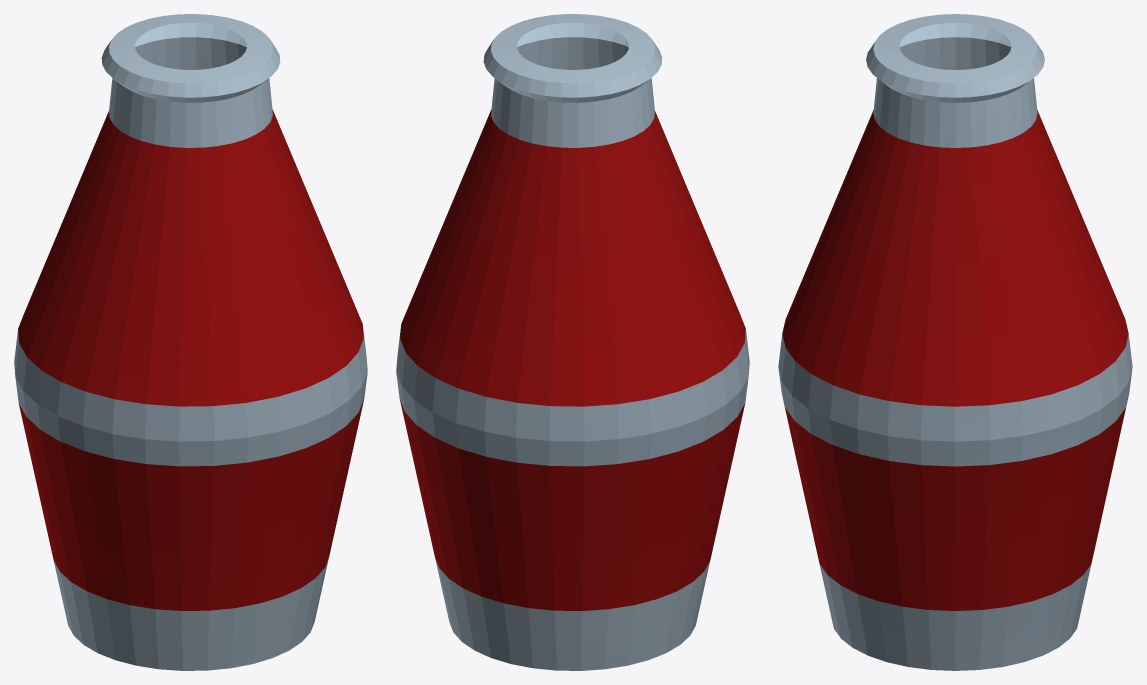
File: macetas almacen.fbx
3 views of the same model, side by side, from view 1: azimuth 30°, elevation 25°; view 2: azimuth 150°, elevation 25°; view 3: azimuth 270°, elevation 25° (orthographic).
Parts seen in each view (by area): view 1: Cilindro; view 2: Cilindro; view 3: Cilindro.
Part boxes in pixels (x1,y1,x2,y2): Cilindro: (14, 14, 367, 670); Cilindro: (396, 14, 749, 670); Cilindro: (778, 14, 1132, 670).
Bounding box in the file's own units: 206 × 368 × 206.
